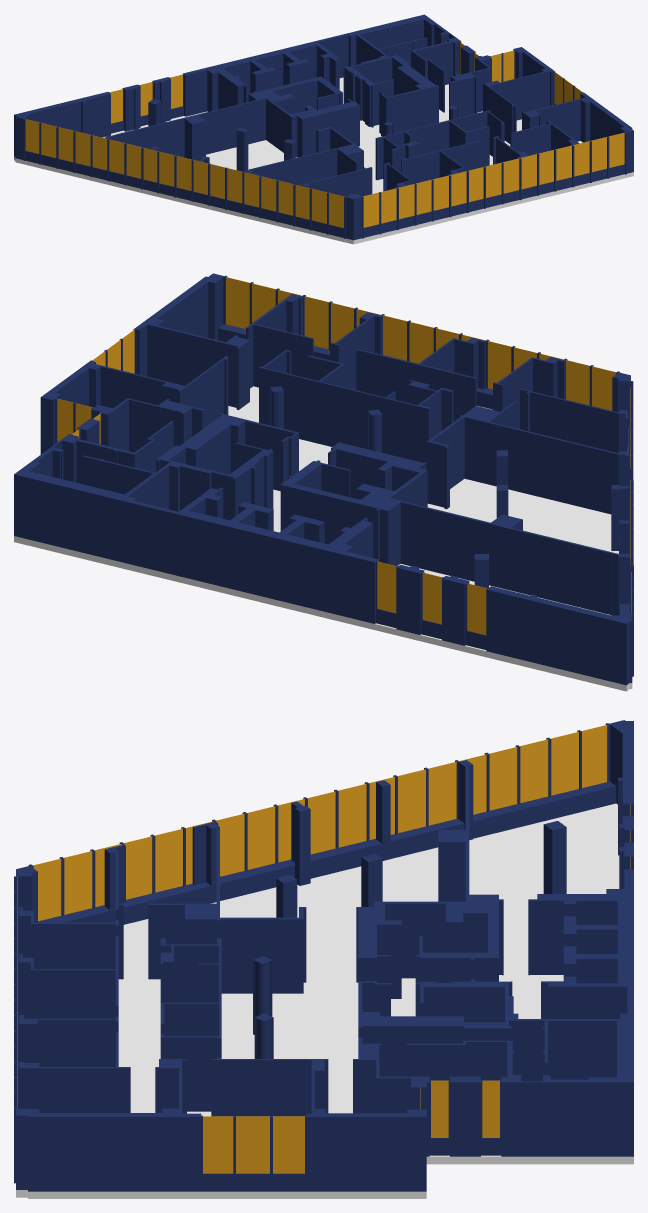
3 views of the same model, one above another, from view 1: azimuth 30°, elevation 25°; view 2: azimuth 150°, elevation 25°; view 3: azimuth 270°, elevation 25° (orthographic). The views are drawn at different scales.
Visible parts, largest first — view 1: Walls, Interior Member, Object_1; view 2: Walls, Interior Member, Object_1; view 3: Walls, Object_1, Interior Member.
Part boxes in pixels (bbox=[...]): Walls: bbox=[14, 14, 633, 240]; Interior Member: bbox=[25, 42, 624, 227]; Object_1: bbox=[14, 77, 633, 244]; Walls: bbox=[14, 273, 633, 685]; Interior Member: bbox=[57, 277, 631, 635]; Object_1: bbox=[14, 386, 632, 691]; Walls: bbox=[14, 720, 633, 1191]; Object_1: bbox=[16, 803, 633, 1198]; Interior Member: bbox=[17, 725, 630, 1173].
Bounding box in the file's own units: 1373 × 906 × 132.
